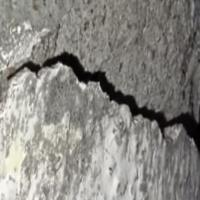crack: (1, 48, 199, 149)
